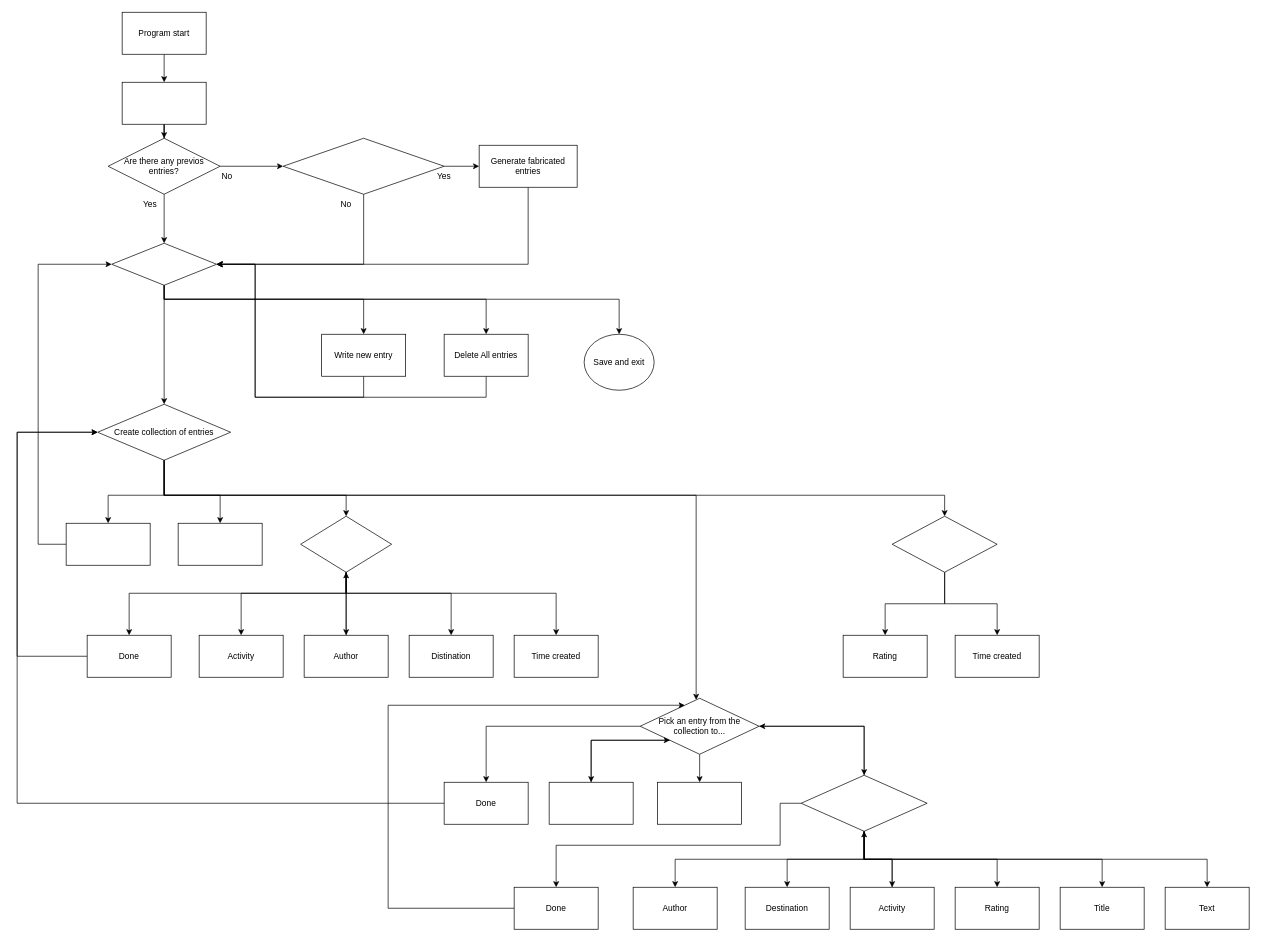
The diagram is 1261 pixels wide and 942 high, and some of its shapes have lost their labels. Each missing label, with the box of its shape:
Apply filter to the collection: (300, 516, 392, 572)
Delete entry: (657, 782, 742, 824)
Edit entry: (800, 775, 927, 831)
Load previous entries: (121, 82, 206, 124)
Main menu: (111, 243, 217, 285)
Prompt: Generate fabricated entries?: (282, 138, 444, 194)
Read entry: (548, 782, 633, 824)
Return to Main menu: (65, 523, 150, 565)
Sort the collection: (891, 516, 997, 572)
View the collection: (177, 523, 262, 565)
